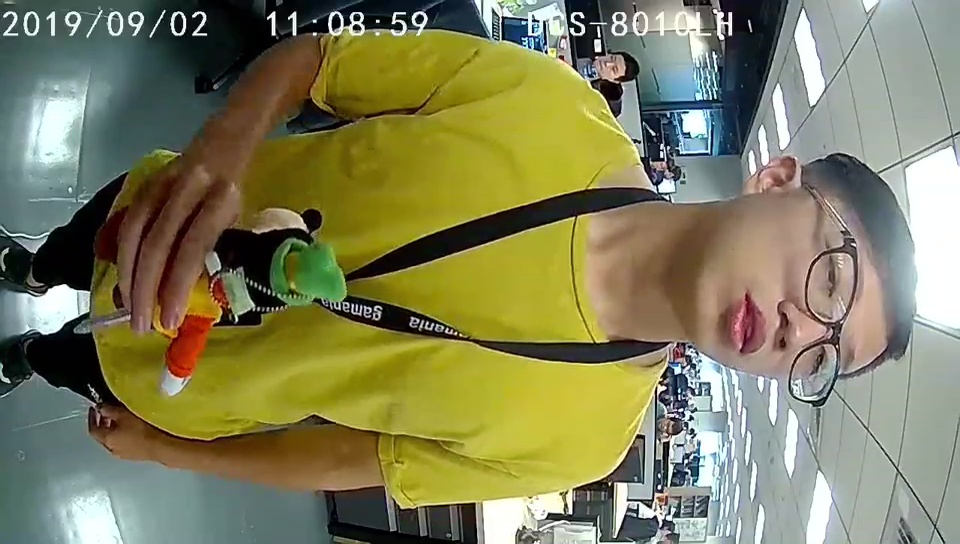goofy: (163, 215, 344, 398)
